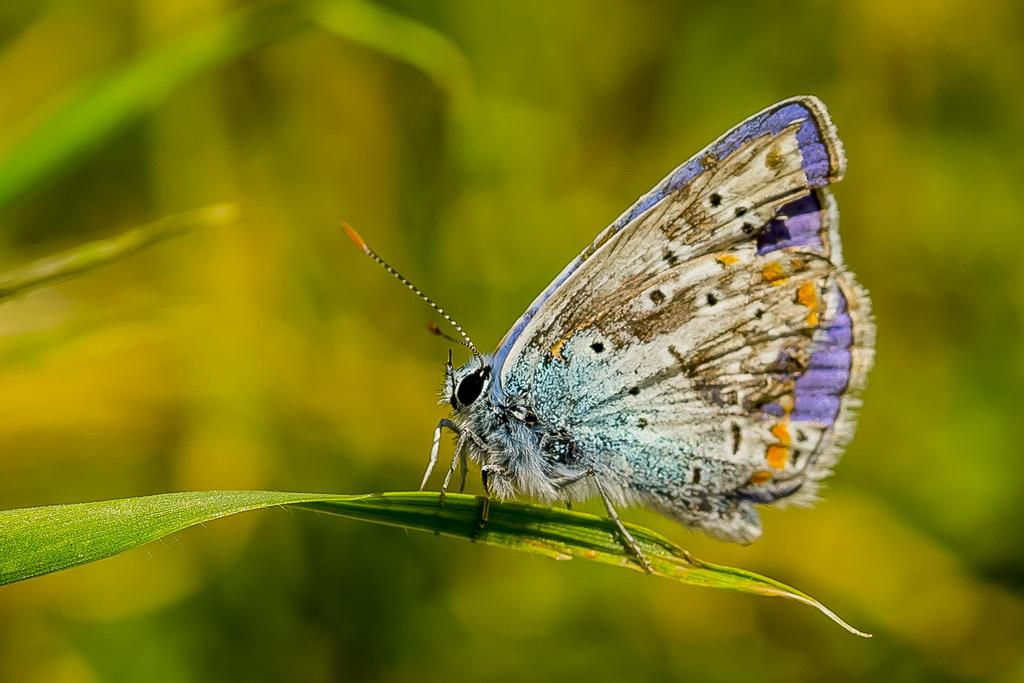Butterfly: (329, 101, 875, 535)
